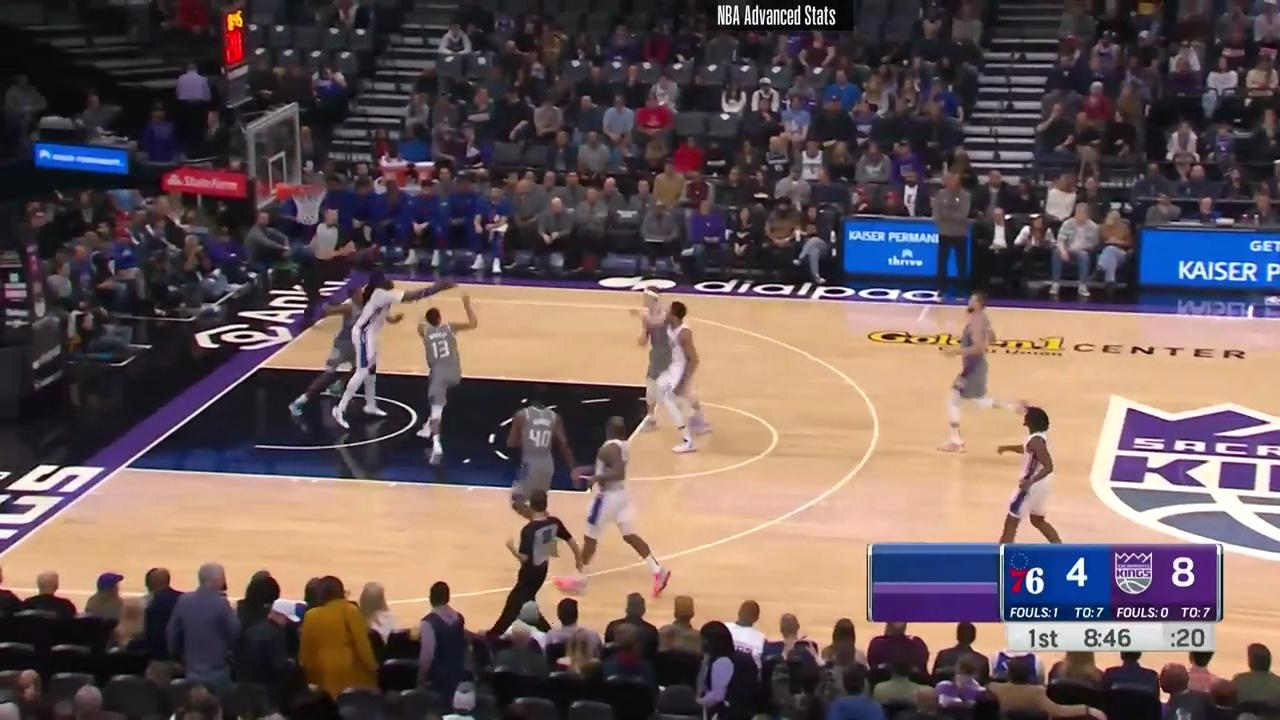Backboard: (239, 100, 296, 218)
Ball: (515, 181, 536, 198)
Basket: (284, 177, 330, 226)
Person: (566, 411, 675, 601), (940, 285, 1020, 456), (346, 265, 426, 422), (638, 293, 710, 452), (414, 293, 480, 457), (289, 285, 370, 410), (996, 403, 1065, 546), (626, 281, 686, 433), (504, 391, 570, 522)
Referee: (494, 487, 578, 635), (294, 209, 356, 323)
Shot Clock: (215, 3, 258, 110)
